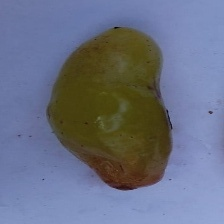grapes: (39, 21, 175, 213)
